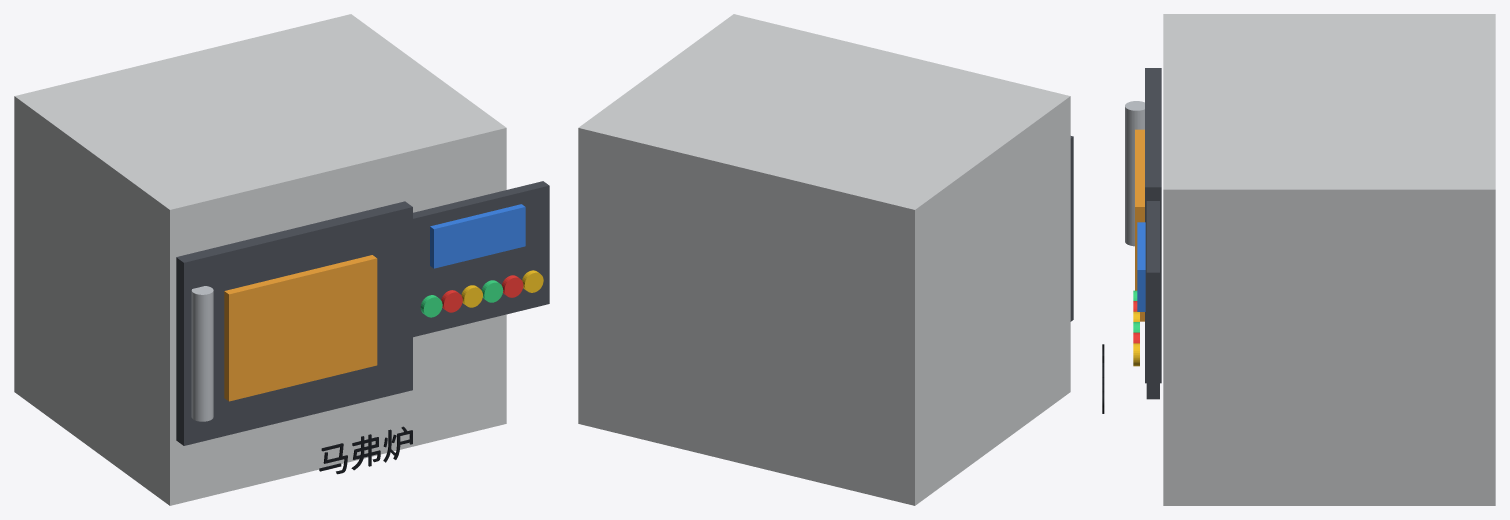
File: asset_furnace.glb
3 renders of one model, left to right at view 1: azimuth 30°, elevation 25°; view 2: azimuth 150°, elevation 25°; view 3: azimuth 270°, elevation 25°, orthographic. The views are drawn at different scales.
Visible parts, largest first — view 1: furnace_body, door, hot_chamber, furnace_panel, furnace_screen, door_handle, asset_label; view 2: furnace_body, door; view 3: furnace_body, door, furnace_panel, door_handle, hot_chamber, furnace_screen.
Boxes of the visible parts, bbox=[...] form: furnace_body: bbox=[14, 14, 506, 505]; door: bbox=[176, 201, 412, 445]; hot_chamber: bbox=[224, 255, 377, 401]; furnace_panel: bbox=[413, 181, 549, 337]; furnace_screen: bbox=[430, 204, 525, 268]; door_handle: bbox=[191, 286, 213, 421]; asset_label: bbox=[319, 426, 412, 474]; furnace_body: bbox=[578, 14, 1070, 505]; door: bbox=[1070, 136, 1073, 321]; furnace_body: bbox=[1163, 14, 1495, 505]; door: bbox=[1145, 68, 1161, 383]; furnace_panel: bbox=[1146, 201, 1159, 399]; door_handle: bbox=[1125, 101, 1144, 246]; hot_chamber: bbox=[1135, 129, 1144, 321]; furnace_screen: bbox=[1137, 222, 1145, 311].
Size of the model in its own units: 1.38 by 1.05 by 1.18.
